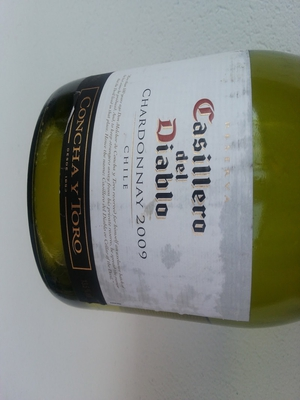casillero del diablo chardonnay: (36, 13, 247, 364)
